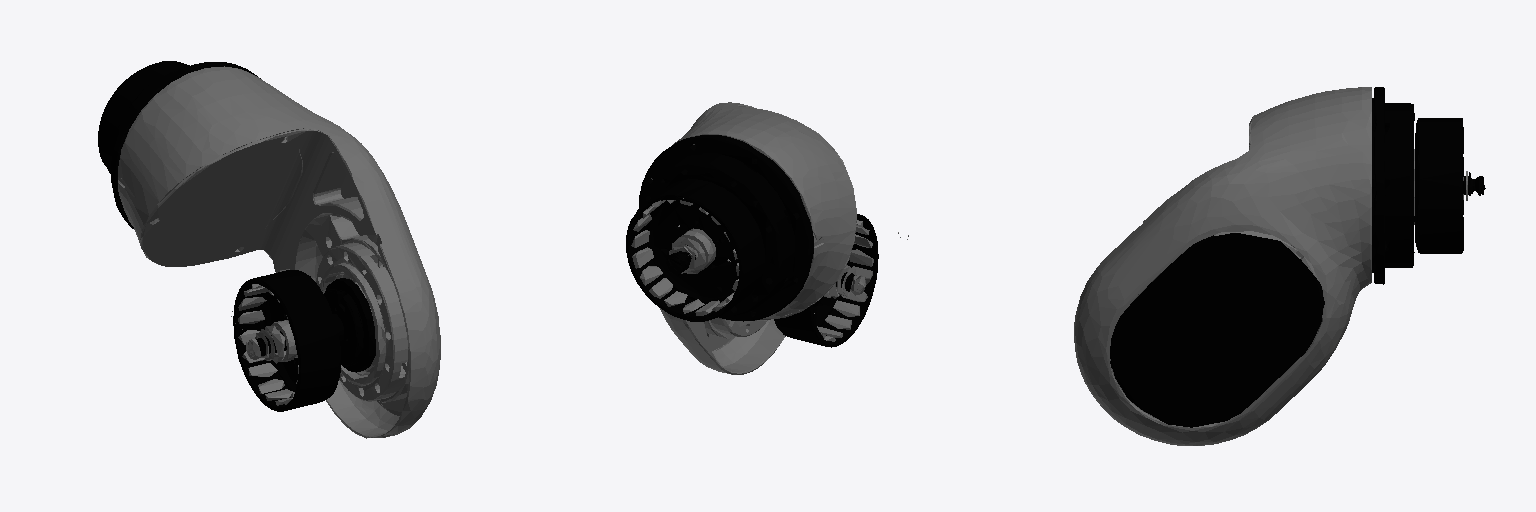
The model's file is left_upper_arm_roll_link.obj.
3 renders of one model, left to right at view 1: azimuth 30°, elevation 25°; view 2: azimuth 150°, elevation 25°; view 3: azimuth 270°, elevation 25°, orthographic.
Visible parts, largest first — view 1: left_upper_arm_roll_link; view 2: left_upper_arm_roll_link; view 3: left_upper_arm_roll_link.
Part boxes in pixels (left/top/right/bottom): left_upper_arm_roll_link: left=98, top=61, right=440, bottom=438; left_upper_arm_roll_link: left=626, top=102, right=908, bottom=374; left_upper_arm_roll_link: left=1074, top=87, right=1485, bottom=445.
Bounding box in the file's own units: 0.0713 × 0.108 × 0.1291.